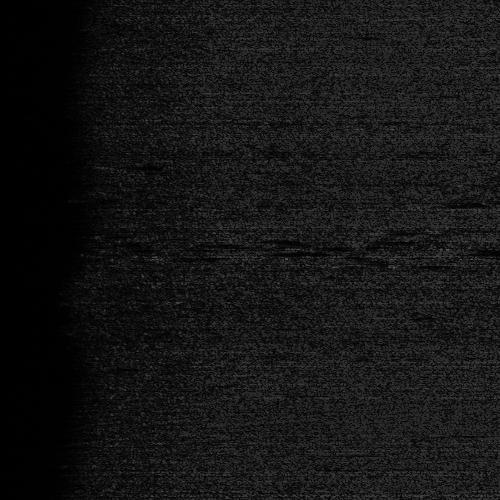object: (432, 245, 485, 254)
shadow: (458, 245, 500, 254)
